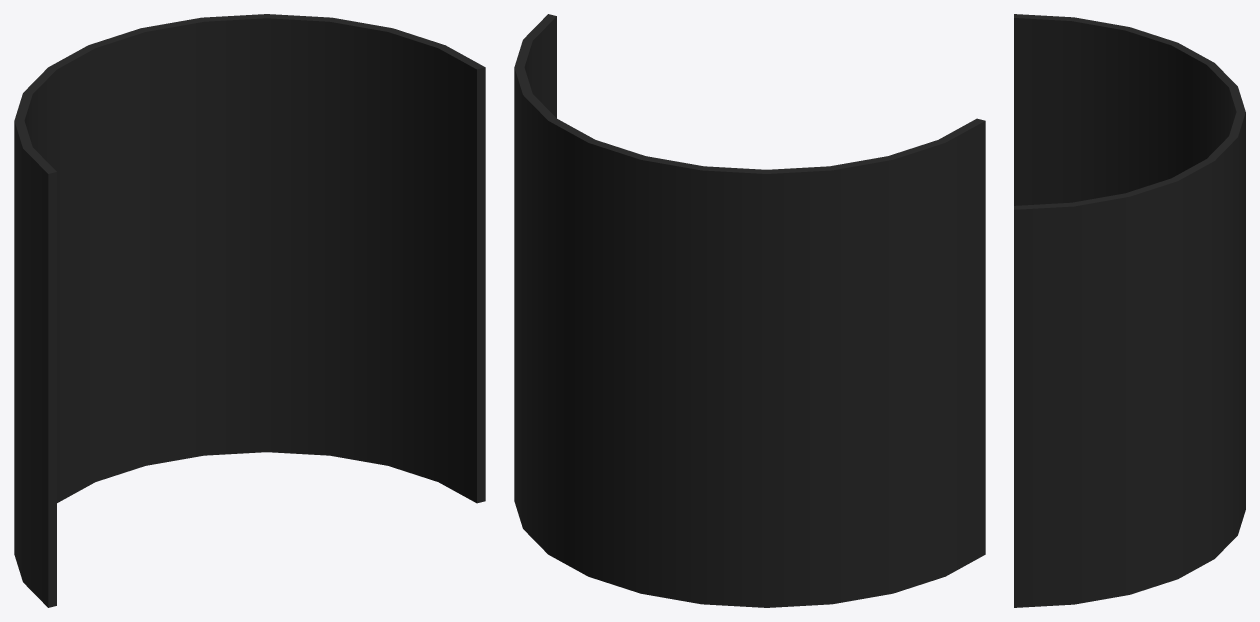
File: TLV_2_Engine_1_Fairing.obj
3 renders of one model, left to right at view 1: azimuth 30°, elevation 25°; view 2: azimuth 150°, elevation 25°; view 3: azimuth 270°, elevation 25°, orthographic. The views are drawn at different scales.
Parts seen in each view (by area): view 1: TLV_2_Engine_1_Fairing; view 2: TLV_2_Engine_1_Fairing; view 3: TLV_2_Engine_1_Fairing.
Part boxes in pixels (x1,y1,x2,y2): TLV_2_Engine_1_Fairing: [14, 14, 485, 607]; TLV_2_Engine_1_Fairing: [514, 14, 985, 607]; TLV_2_Engine_1_Fairing: [1014, 14, 1245, 607].
Size of the model in its own units: 1.25 by 1.18 by 0.625.
